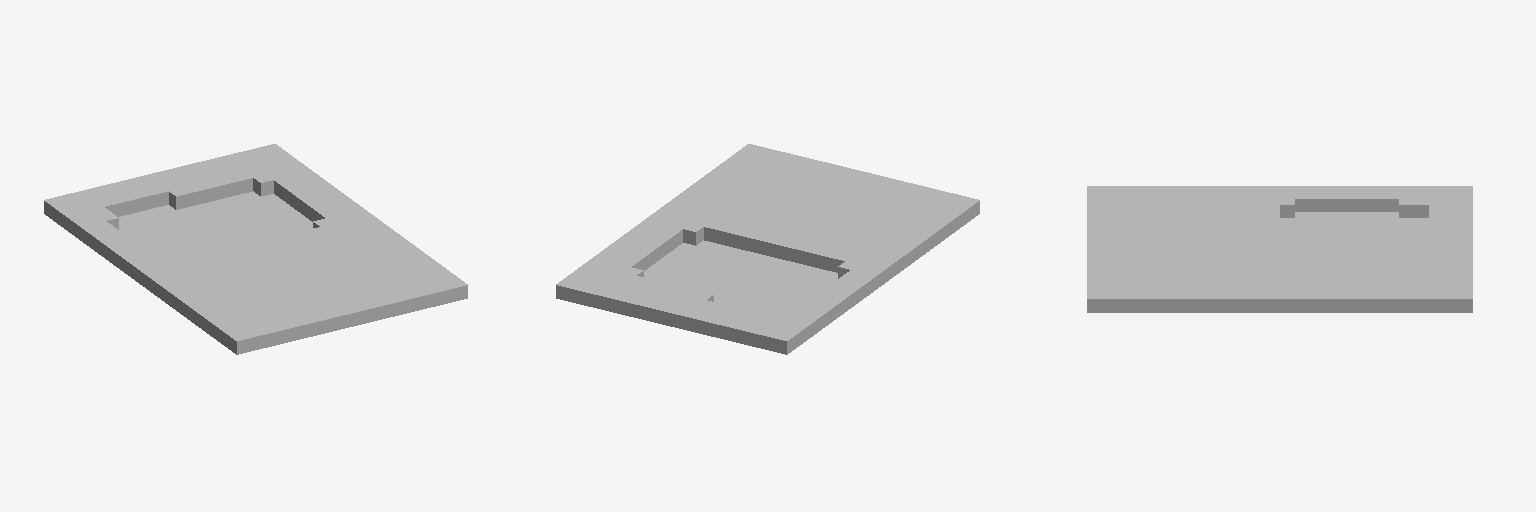
File: mainland mk8.obj
3 views of the same model, side by side, from view 1: azimuth 30°, elevation 25°; view 2: azimuth 150°, elevation 25°; view 3: azimuth 270°, elevation 25° (orthographic).
Size of the model in its own units: 18 by 2 by 26.